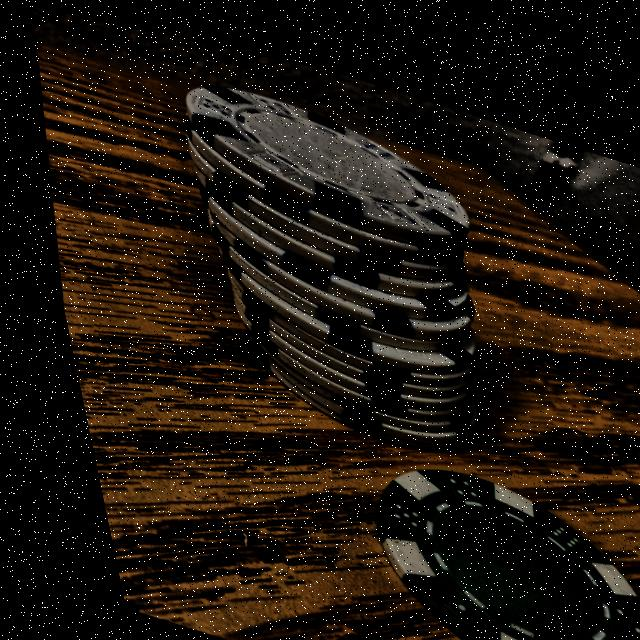Chip: (115, 45, 541, 461), (310, 413, 640, 640)
